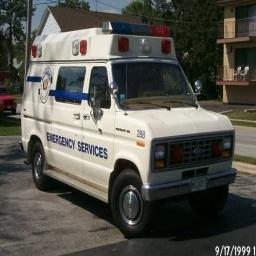ambulance: (22, 22, 235, 235)
